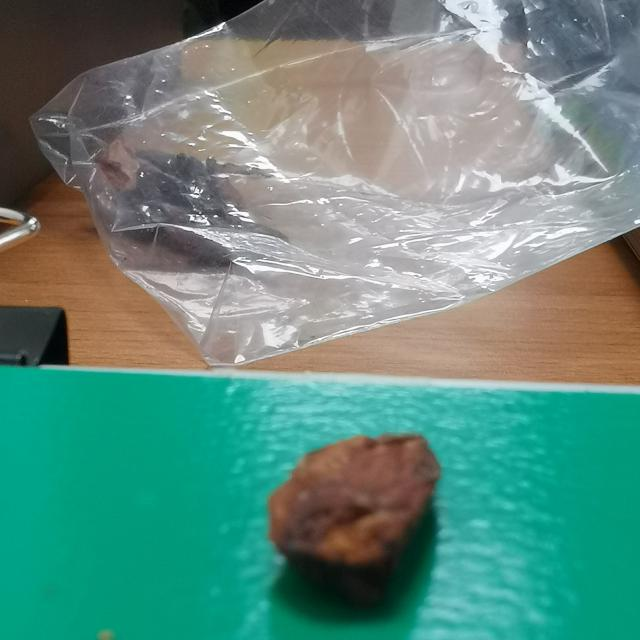Flat_cocoabeans: (195, 410, 482, 640)
